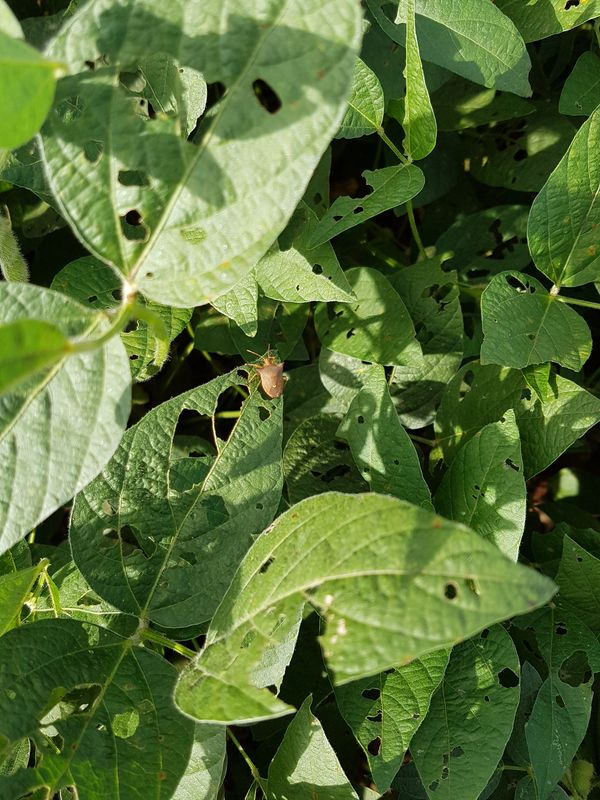Euschistus_heros_adulto: (241, 339, 298, 406)
